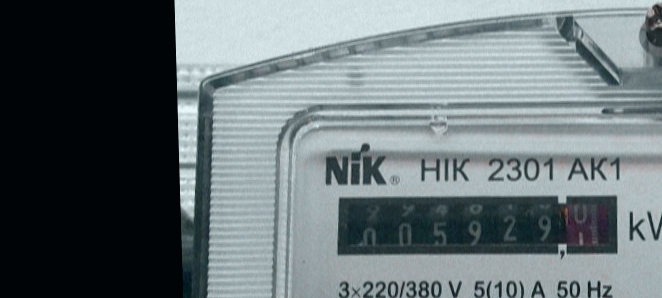0: (396, 219, 415, 248), (359, 222, 380, 246), (571, 201, 591, 225)
2: (499, 211, 519, 245)
5: (431, 218, 449, 247)
9: (535, 211, 555, 244), (464, 216, 485, 247), (363, 202, 382, 221)
screen: (330, 183, 627, 271)
